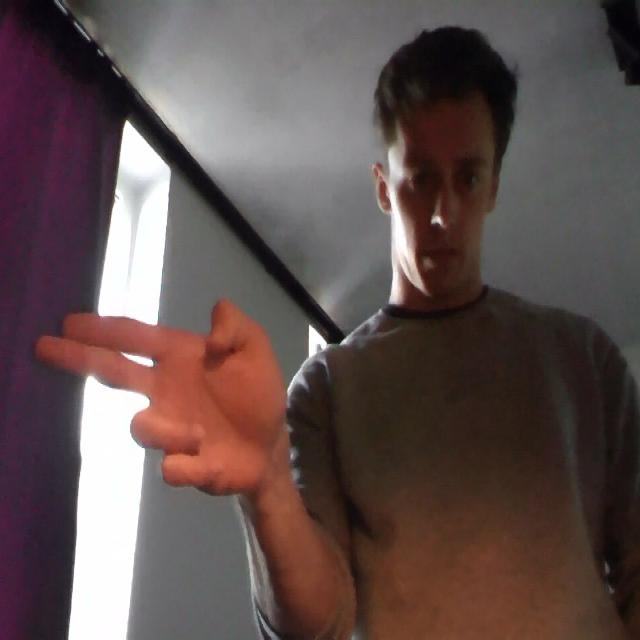left: (26, 288, 307, 508)
